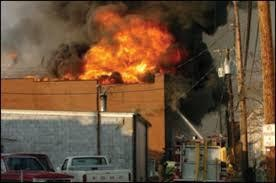fire: (75, 9, 175, 82)
